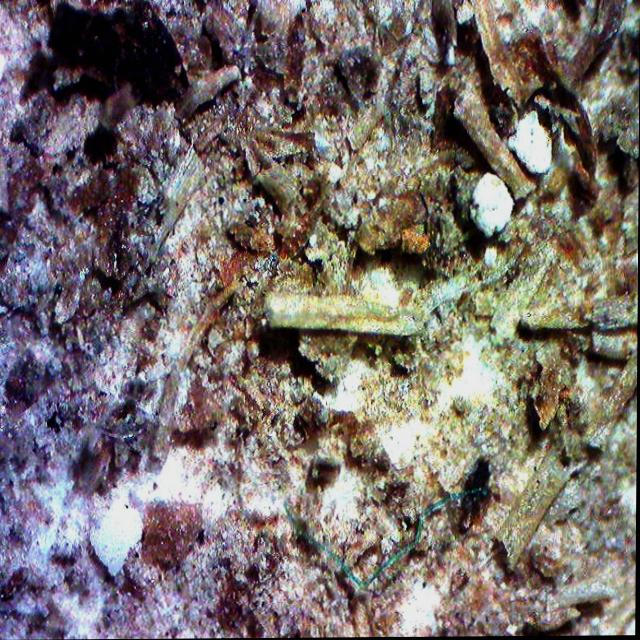microplastic: (284, 488, 481, 587)
